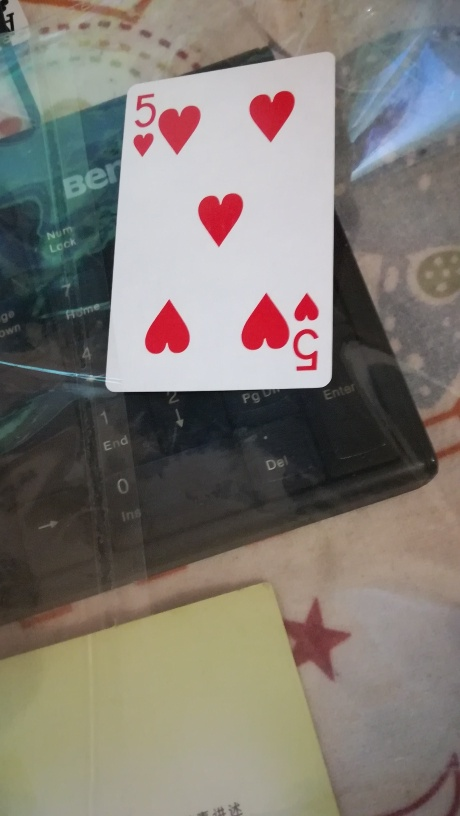hx 5: (105, 48, 338, 390)
